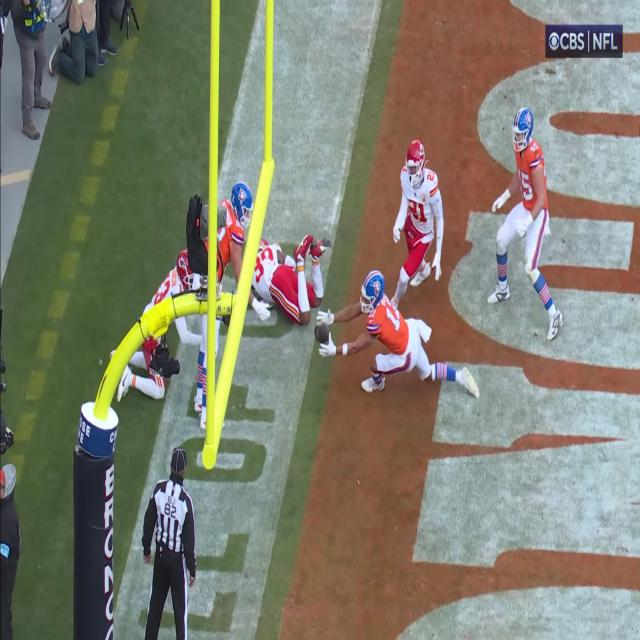Player: (358, 273, 478, 400), (496, 111, 552, 334), (393, 140, 445, 314), (251, 228, 330, 332)
Referee: (140, 444, 197, 640)
